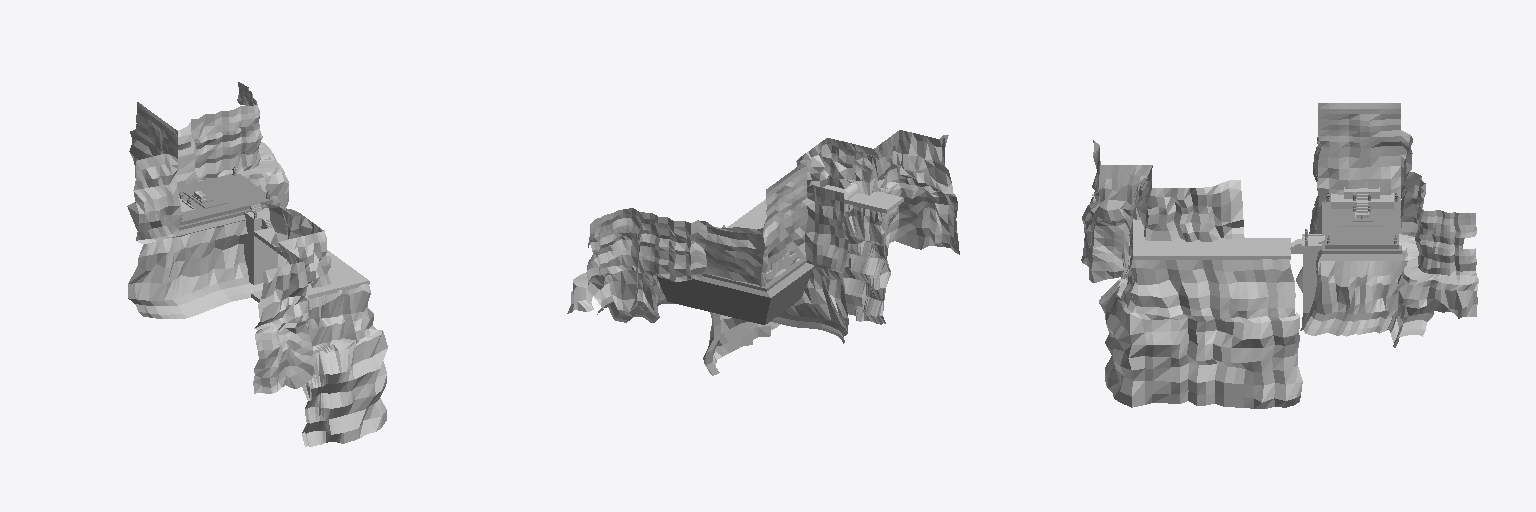
Rendered from temple.obj.
The picture shows the model from 3 angles: view 1: azimuth 30°, elevation 25°; view 2: azimuth 150°, elevation 25°; view 3: azimuth 270°, elevation 25°; orthographic projection.
Visible parts, largest first — view 1: Cube.013_Cube.021, Cube, Stairs.003_Cube.018; view 2: Cube.013_Cube.021, Cube, Stairs.003_Cube.018; view 3: Cube.013_Cube.021, Stairs.003_Cube.018, Cube, Cube.002.
Part boxes in pixels (x1,y1,x2,y2): Cube.013_Cube.021: (128, 82, 387, 446); Cube: (127, 173, 286, 243); Stairs.003_Cube.018: (244, 208, 369, 302); Cube.013_Cube.021: (567, 130, 959, 375); Cube: (657, 257, 814, 324); Stairs.003_Cube.018: (727, 185, 903, 229); Cube.013_Cube.021: (1081, 103, 1478, 408); Stairs.003_Cube.018: (1133, 219, 1321, 312); Cube: (1318, 200, 1405, 260); Cube.002: (1331, 187, 1393, 208).
Size of the model in its own units: 126 by 144 by 208.